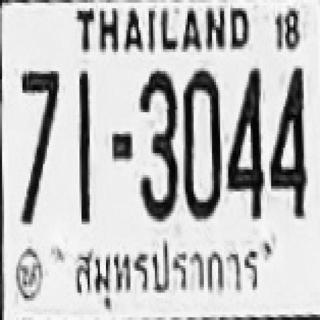N00: (183, 70, 220, 217)
N01: (77, 70, 90, 198)
N03: (139, 68, 177, 219)
N04: (226, 67, 263, 218), (269, 65, 306, 216)
N07: (20, 68, 59, 175), (20, 68, 59, 161)
P57: (68, 238, 261, 311)
